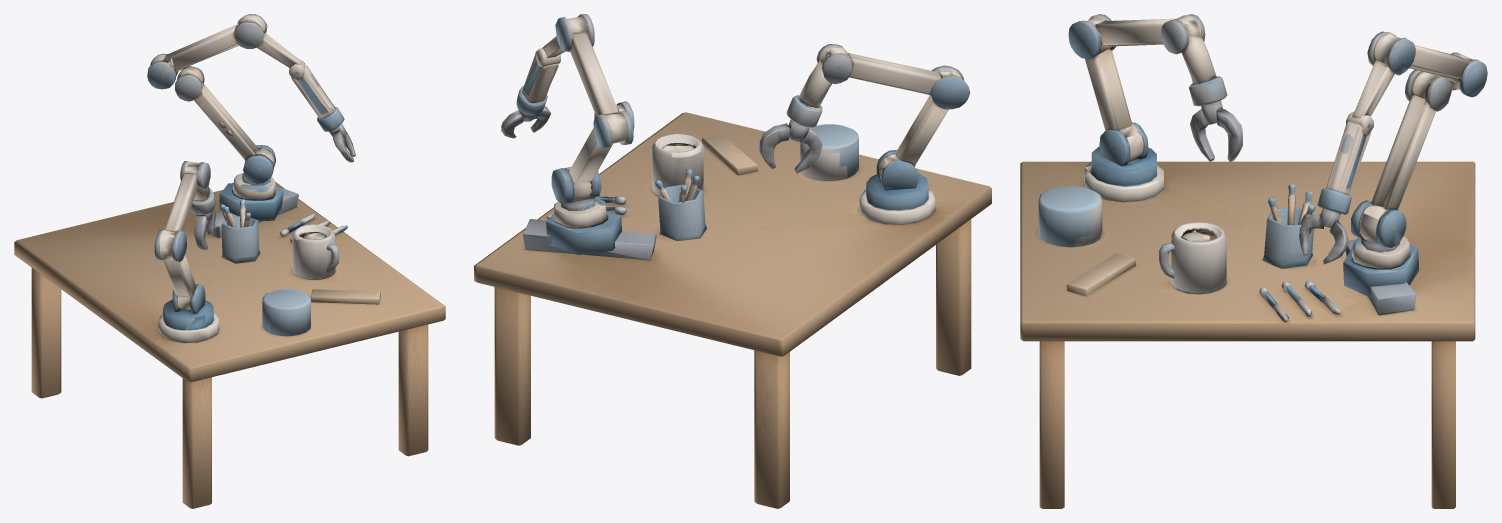
File: desk-textured.glb
The picture shows the model from 3 angles, left to right: view 1: azimuth 30°, elevation 25°; view 2: azimuth 150°, elevation 25°; view 3: azimuth 270°, elevation 25°; orthographic projection. The views are drawn at different scales.
Parts seen in each view (by area): view 1: tripo_part_21, tripo_part_17, tripo_part_43, tripo_part_45, tripo_part_14, tripo_part_18, tripo_part_36, tripo_part_16, tripo_part_34, tripo_part_47, tripo_part_24, tripo_part_41 (+14 smaller); view 2: tripo_part_21, tripo_part_23, tripo_part_45, tripo_part_43, tripo_part_14, tripo_part_24, tripo_part_16, tripo_part_47, tripo_part_34, tripo_part_18, tripo_part_22, tripo_part_25 (+18 smaller); view 3: tripo_part_21, tripo_part_17, tripo_part_23, tripo_part_14, tripo_part_36, tripo_part_18, tripo_part_22, tripo_part_16, tripo_part_47, tripo_part_3, tripo_part_25, tripo_part_24 (+20 smaller).
Part boxes in pixels (left/top/right/bottom): tripo_part_21: left=14, top=182, right=445, bottom=381; tripo_part_17: left=398, top=324, right=428, bottom=456; tripo_part_43: left=182, top=377, right=211, bottom=508; tripo_part_45: left=31, top=268, right=61, bottom=398; tripo_part_14: left=262, top=289, right=310, bottom=336; tripo_part_18: left=292, top=230, right=335, bottom=279; tripo_part_36: left=194, top=83, right=258, bottom=160; tripo_part_16: left=221, top=216, right=260, bottom=263; tripo_part_34: left=164, top=23, right=238, bottom=71; tripo_part_47: left=219, top=183, right=283, bottom=221; tripo_part_24: left=164, top=172, right=198, bottom=231; tripo_part_41: left=311, top=289, right=380, bottom=304; tripo_part_21: left=474, top=112, right=991, bottom=356; tripo_part_23: left=494, top=287, right=530, bottom=445; tripo_part_45: left=754, top=350, right=789, bottom=508; tripo_part_43: left=936, top=219, right=971, bottom=375; tripo_part_14: left=800, top=124, right=858, bottom=180; tripo_part_24: left=847, top=52, right=940, bottom=95; tripo_part_16: left=658, top=184, right=706, bottom=240; tripo_part_47: left=546, top=211, right=621, bottom=255; tripo_part_34: left=570, top=32, right=618, bottom=115; tripo_part_18: left=652, top=140, right=703, bottom=196; tripo_part_22: left=895, top=95, right=948, bottom=166; tripo_part_25: left=866, top=173, right=928, bottom=210; tripo_part_21: left=1020, top=161, right=1475, bottom=341; tripo_part_17: left=1039, top=341, right=1064, bottom=508; tripo_part_23: left=1431, top=341, right=1455, bottom=508; tripo_part_14: left=1038, top=186, right=1102, bottom=247; tripo_part_36: left=1371, top=95, right=1435, bottom=210; tripo_part_18: left=1170, top=229, right=1226, bottom=294; tripo_part_22: left=1085, top=49, right=1131, bottom=130; tripo_part_16: left=1262, top=207, right=1313, bottom=268; tripo_part_47: left=1343, top=244, right=1419, bottom=297; tripo_part_3: left=1326, top=121, right=1370, bottom=195; tripo_part_25: left=1091, top=147, right=1156, bottom=186; tripo_part_24: left=1095, top=18, right=1175, bottom=46.
Size of the model in its own units: 0.8943 by 1 by 0.9491.
65 materials, 65 textured.
